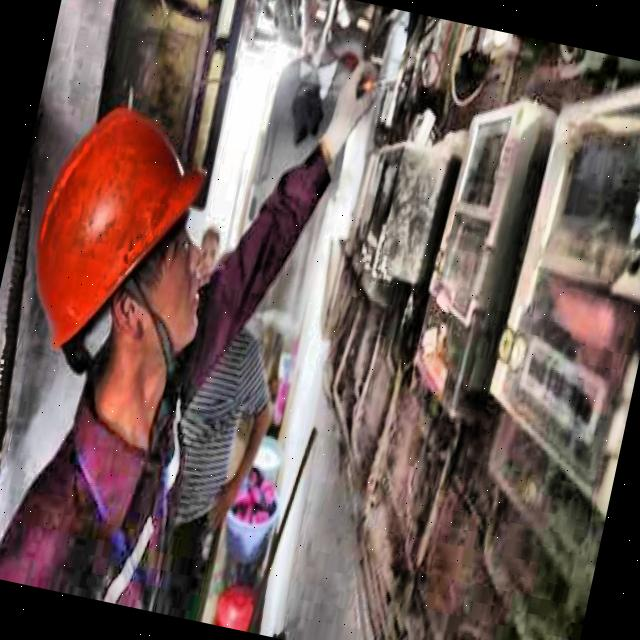helmet: (0, 70, 255, 475)
